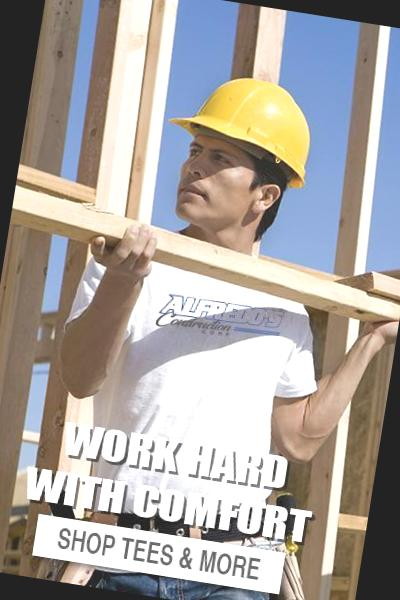helmet: (157, 57, 340, 193)
person: (46, 46, 396, 455)
